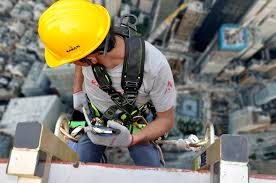Helmet: (26, 2, 109, 68)
gloves: (85, 125, 134, 152)
